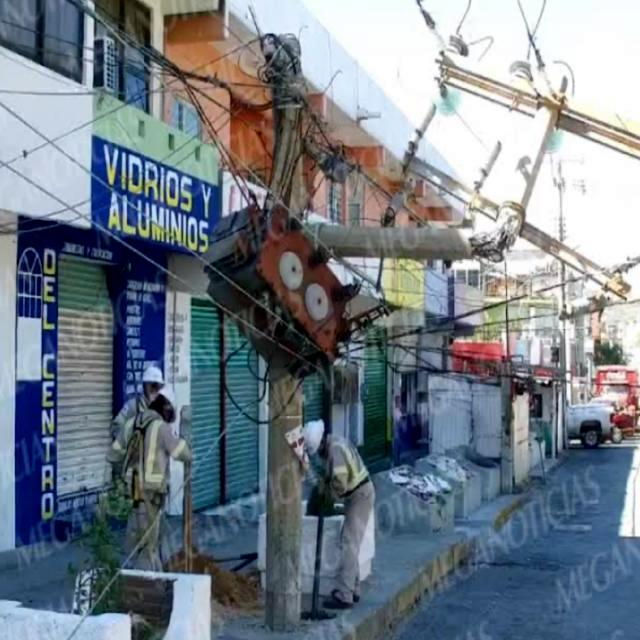Broken Pole: (201, 29, 637, 630)
